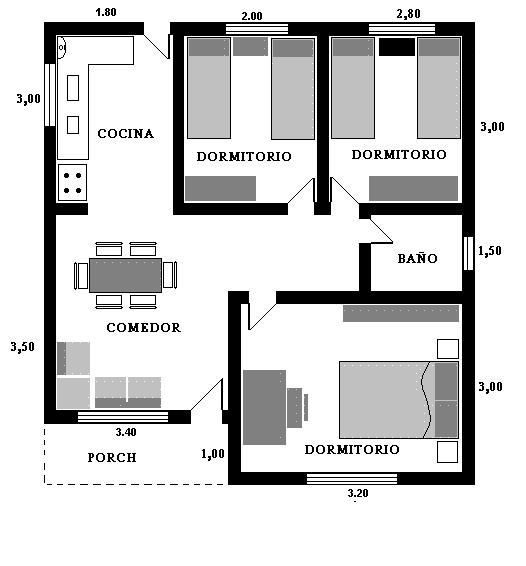door: (189, 377, 221, 411), (362, 215, 392, 245), (246, 300, 277, 328), (331, 176, 360, 204), (145, 34, 172, 60), (292, 179, 316, 201)
room: (243, 299, 465, 468), (56, 213, 225, 410), (187, 30, 313, 201), (335, 31, 463, 198), (55, 42, 177, 216)
wall: (41, 124, 57, 423), (224, 290, 243, 472), (462, 268, 478, 484), (277, 289, 462, 306), (316, 36, 333, 218), (462, 34, 477, 239), (171, 25, 184, 208), (178, 201, 290, 218), (360, 200, 464, 215), (231, 468, 305, 488), (289, 19, 367, 37), (44, 19, 144, 32), (356, 245, 375, 300), (400, 470, 475, 482), (168, 20, 227, 35), (41, 22, 58, 59), (437, 20, 475, 36), (53, 203, 90, 215), (47, 410, 75, 424), (168, 413, 191, 423)
window: (308, 470, 399, 487), (80, 410, 168, 424), (41, 64, 60, 125), (229, 19, 289, 37), (371, 22, 434, 37), (461, 239, 478, 273)
